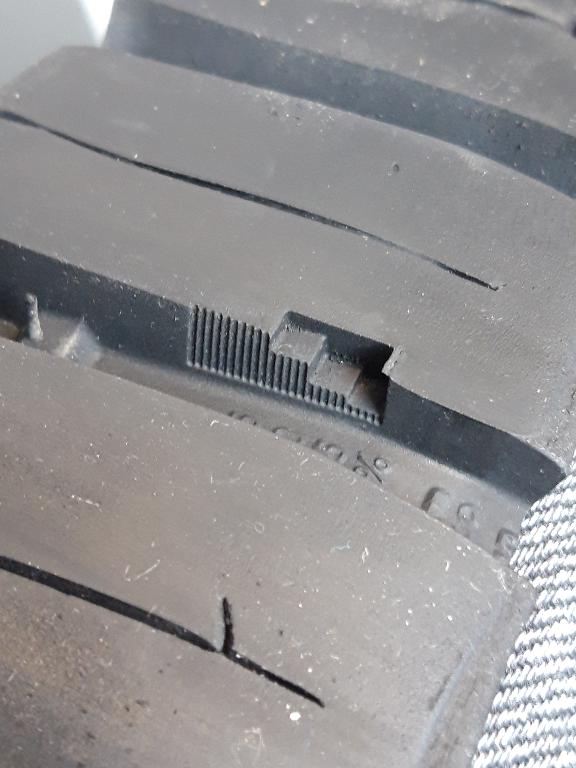temoin:75: (226, 298, 410, 432)
